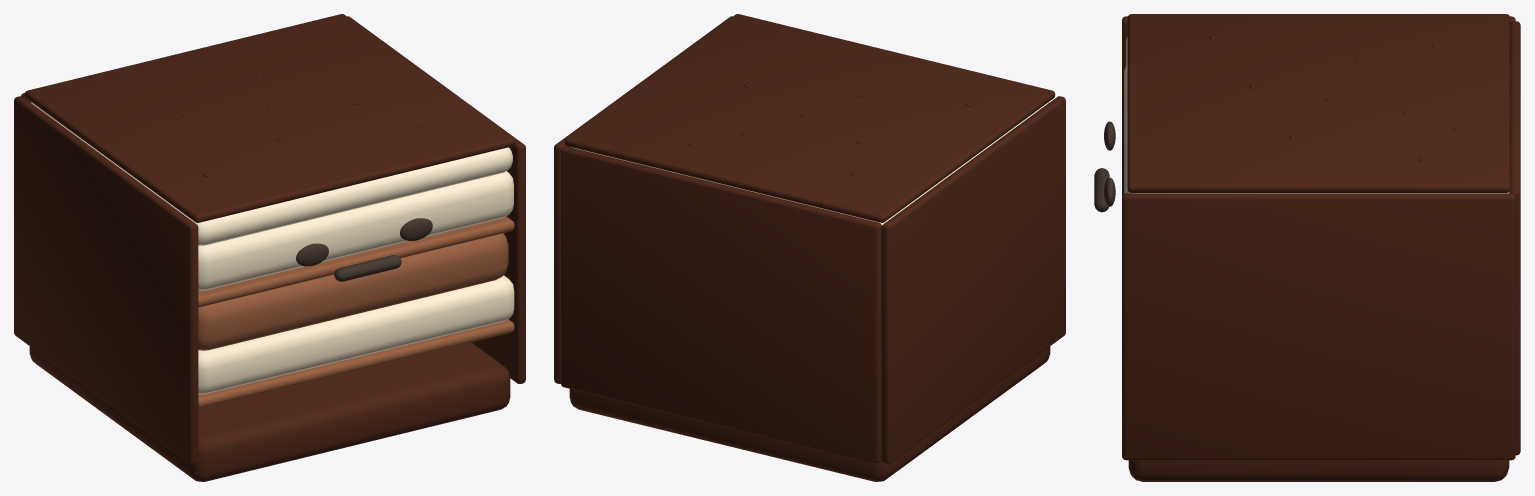
File: brick_cake.glb
3 renders of one model, left to right at view 1: azimuth 30°, elevation 25°; view 2: azimuth 150°, elevation 25°; view 3: azimuth 270°, elevation 25°, orthographic. The views are drawn at different scales.
Parts seen in each view (by area): view 1: cocoa_powder_top, cocoa_shell_left, wakppu_brick_cake, mascarpone_low, coffee_sponge_middle, mascarpone_high, mascarpone_top, cocoa_shell_right, coffee_soak_high, coffee_soak_low, mouth, eye (+1 smaller); view 2: cocoa_shell_back, cocoa_powder_top, cocoa_shell_left, wakppu_brick_cake, cocoa_shell_right, mascarpone_top; view 3: cocoa_shell_right, cocoa_powder_top, wakppu_brick_cake, cocoa_shell_back, mascarpone_top, cocoa_shell_left, mouth.
Boxes of the visible parts, <box> form: cocoa_powder_top: <box>24,14,515,222</box>; cocoa_shell_left: <box>14,96,198,463</box>; wakppu_brick_cake: <box>29,342,510,481</box>; mascarpone_low: <box>198,275,514,394</box>; coffee_sponge_middle: <box>198,233,508,350</box>; mascarpone_high: <box>198,171,513,290</box>; mascarpone_top: <box>31,102,512,245</box>; cocoa_shell_right: <box>347,16,525,383</box>; coffee_soak_high: <box>198,216,514,307</box>; coffee_soak_low: <box>198,319,514,408</box>; mouth: <box>334,255,401,281</box>; eye: <box>296,243,328,266</box>; cocoa_shell_back: <box>561,146,881,463</box>; cocoa_powder_top: <box>564,14,1055,222</box>; cocoa_shell_left: <box>881,96,1065,463</box>; wakppu_brick_cake: <box>569,346,1050,481</box>; cocoa_shell_right: <box>554,16,732,383</box>; mascarpone_top: <box>571,102,1048,225</box>; cocoa_shell_right: <box>1122,193,1515,460</box>; cocoa_powder_top: <box>1127,14,1510,192</box>; wakppu_brick_cake: <box>1128,460,1509,481</box>; cocoa_shell_back: <box>1509,21,1520,455</box>; mascarpone_top: <box>1126,36,1509,193</box>; cocoa_shell_left: <box>1122,16,1515,196</box>; mouth: <box>1094,168,1109,212</box>.
Bounding box in the file's own units: 1.94 × 1.52 × 1.93.
